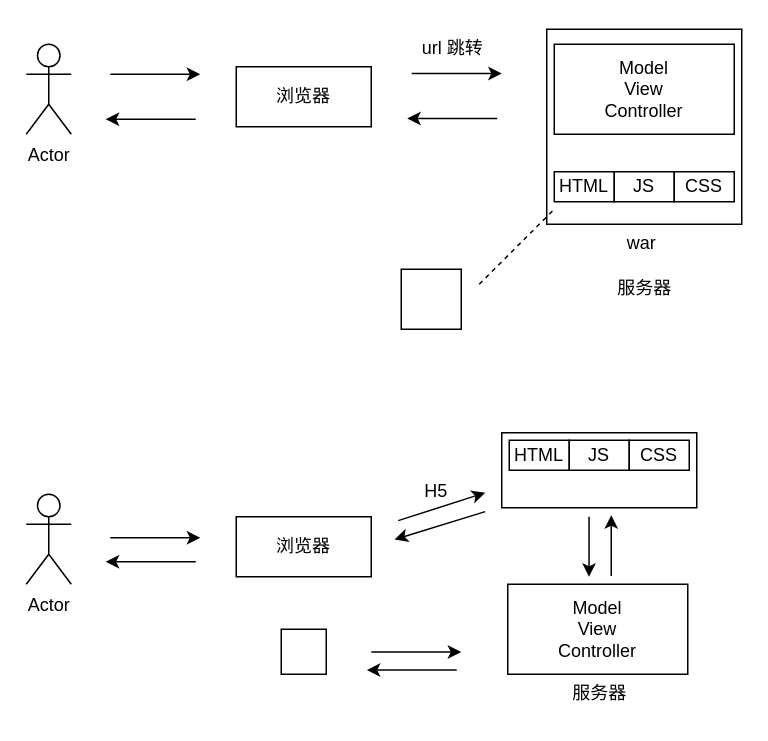
Image size: 768x741. Some labels were removed from this diagram. Each missing label, with the box of its shape:
JSP: (400, 268, 461, 329)
Nginx: (500, 431, 697, 508)
手机: (280, 628, 326, 674)
